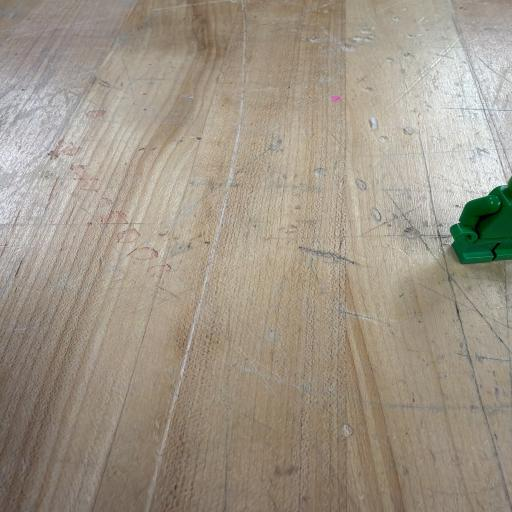Green-Lego: (450, 177, 512, 264)
